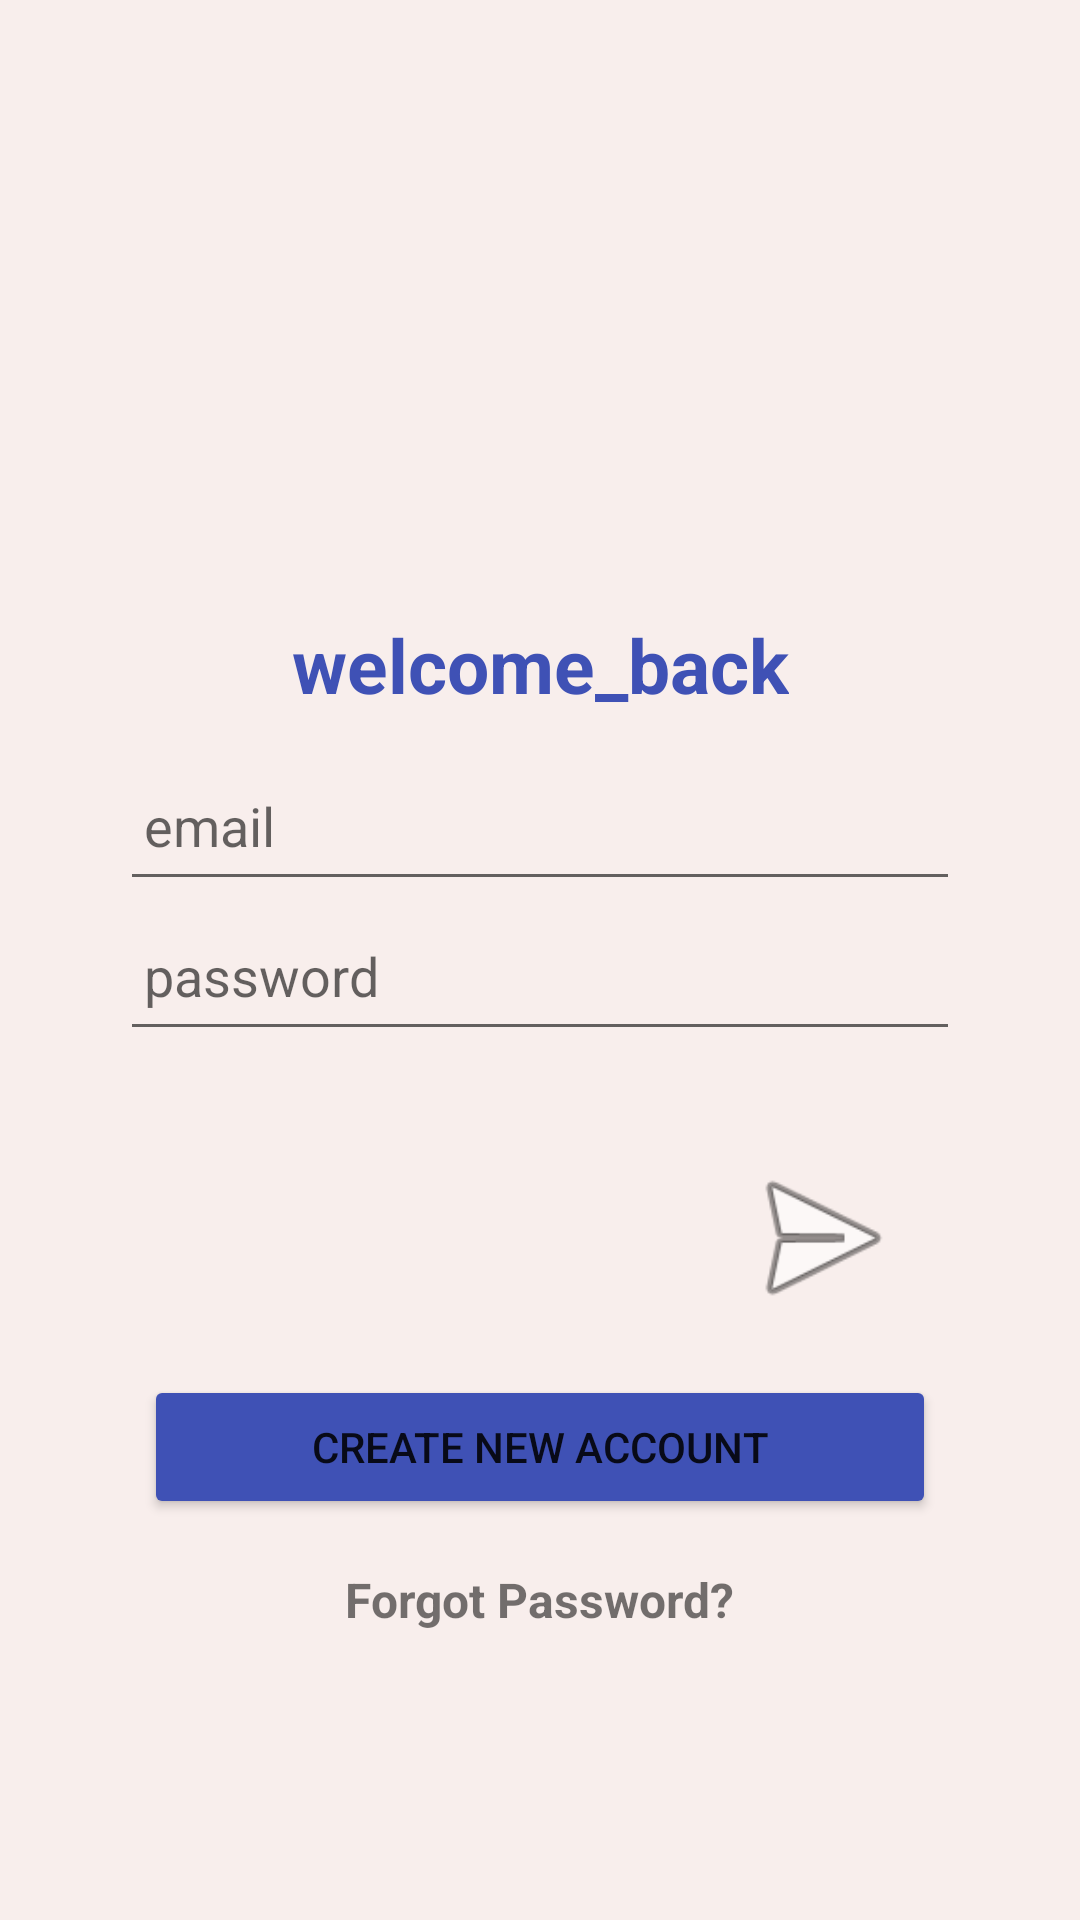

Where icons sit on this 1080 × 1920 app screen, as {"x1": x1, "y1": y1, "x2": x2, "y2": y2}:
send: {"x1": 766, "y1": 1181, "x2": 881, "y2": 1295}
